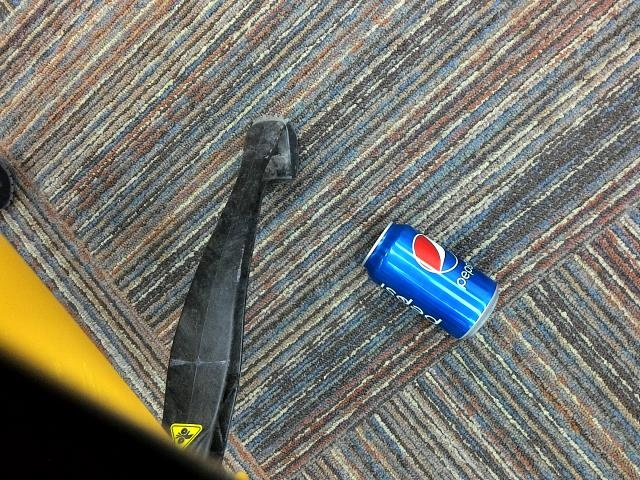can: (352, 215, 508, 342)
